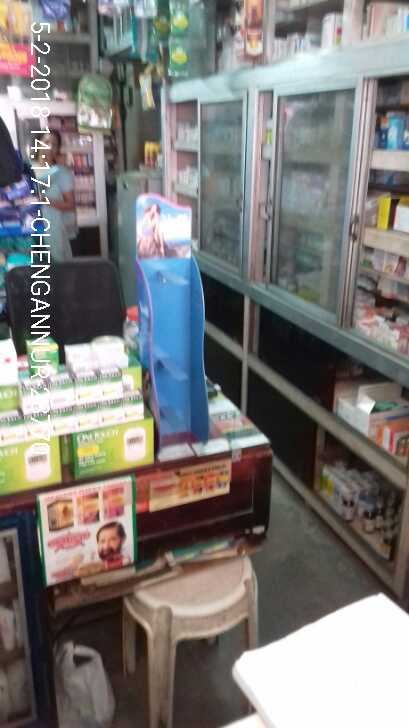reject: (186, 233, 227, 289)
